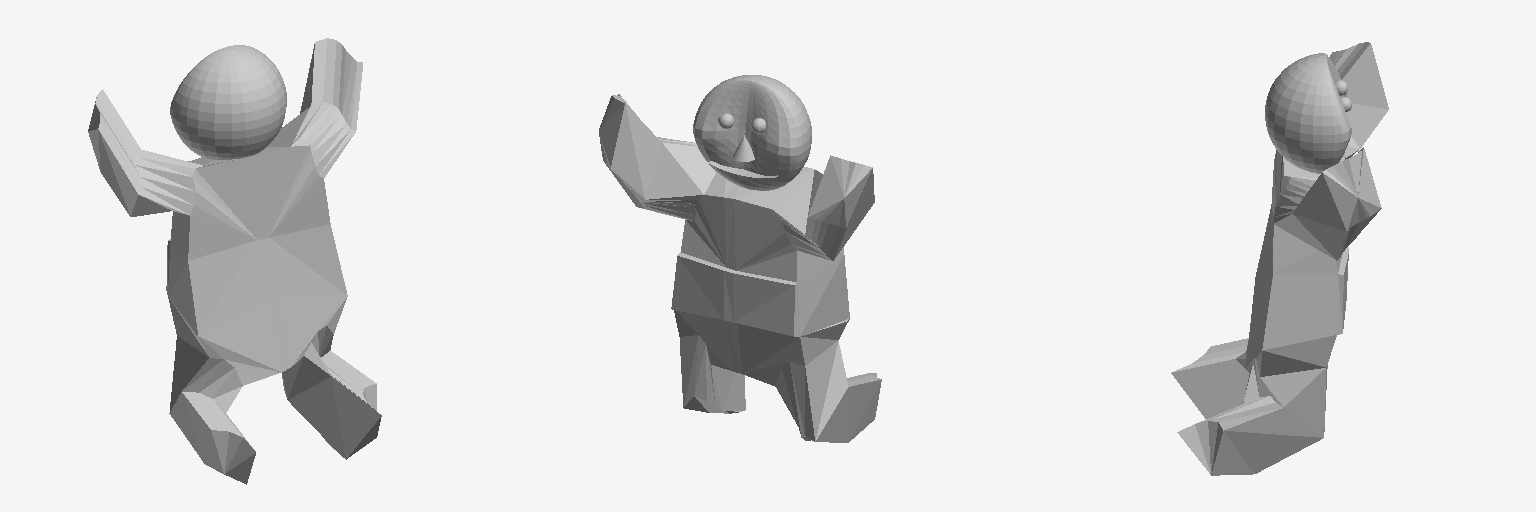
Rendered from manjump_000013.obj.
The picture shows the model from 3 angles: view 1: azimuth 30°, elevation 25°; view 2: azimuth 150°, elevation 25°; view 3: azimuth 270°, elevation 25°; orthographic projection.
Parts seen in each view (by area): view 1: Cube; view 2: Cube; view 3: Cube.
Boxes of the visible parts, x1=… form: Cube: x1=88, y1=38, x2=381, y2=484; Cube: x1=599, y1=75, x2=881, y2=442; Cube: x1=1171, y1=42, x2=1388, y2=475.
Bounding box in the file's own units: 82.66 × 117 × 59.5.